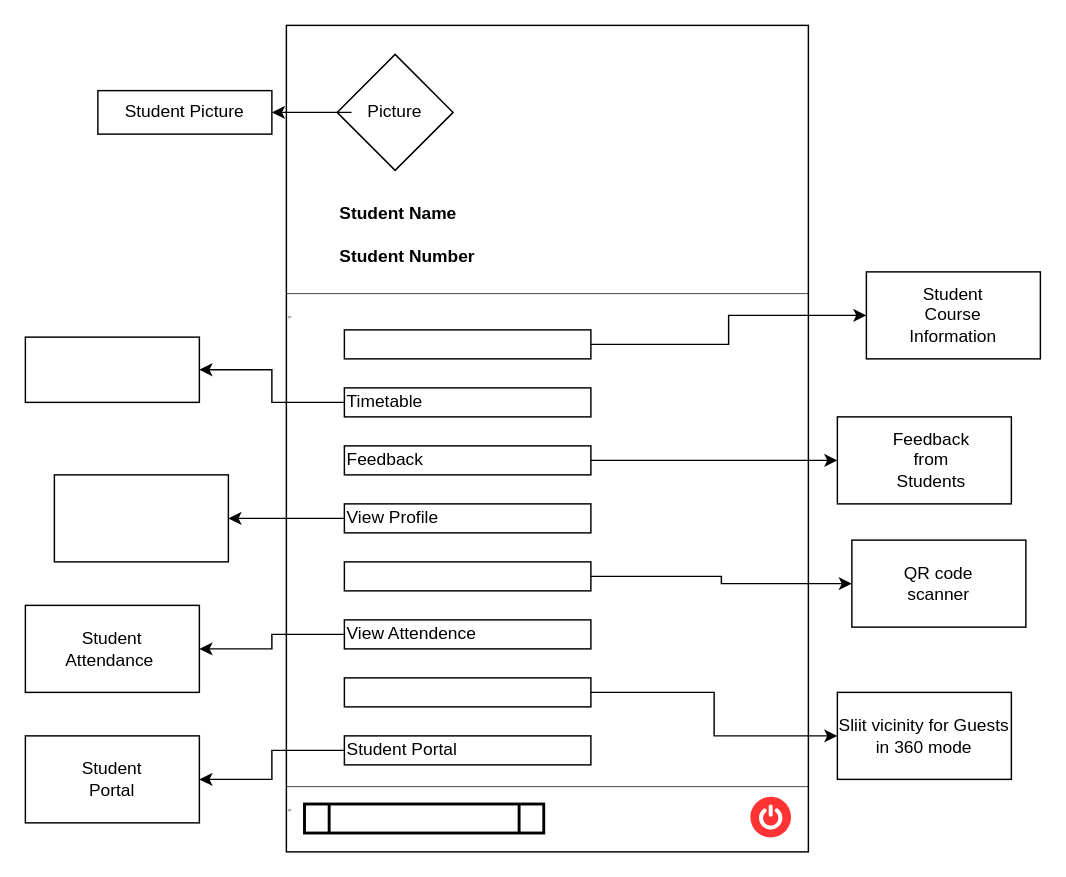
The diagram is 1066 pixels wide and 877 high, and some of its shapes have lost their labels. The box of each missing label's shape, as (x1, y1, x2, y2) in pixels:
360 Classrooms: (343, 676, 591, 707)
Course Web: (343, 328, 591, 359)
Mark Attendence: (343, 560, 591, 591)
Sign Out: (302, 802, 544, 834)
View Student Profile: (53, 473, 228, 562)
View Student Timetable: (24, 336, 199, 402)
